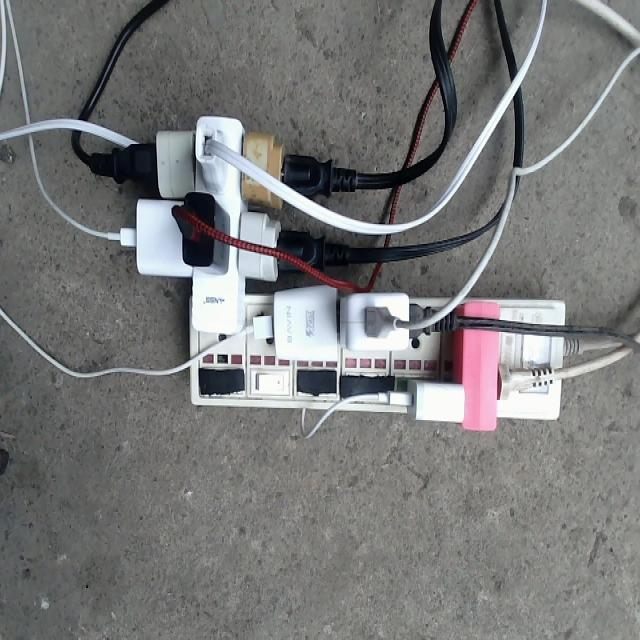-: (66, 104, 574, 447)
